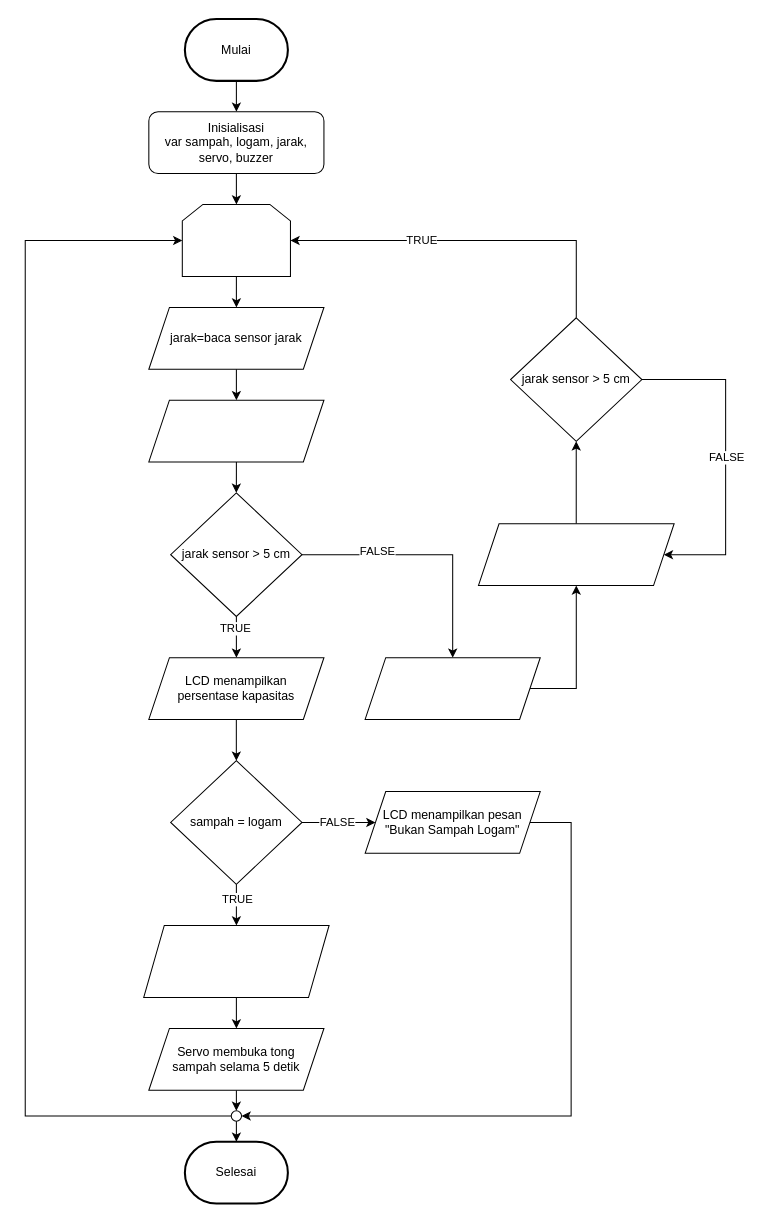
Image size: 761x1222. Some labels were removed from this diagram. Each missing label, with the centre of its shape:
LCD menampilkan persentase "100%": (x=452, y=688)
LCD menampilkan pesan "Sampah Logam Terdeteksi": (x=236, y=961)
logam=baca sensor logam: (x=236, y=430)
timer buzzer berbunyi setiap 1 menit & servo membuka tong sampah: (x=575, y=554)
while true: (x=235, y=240)
